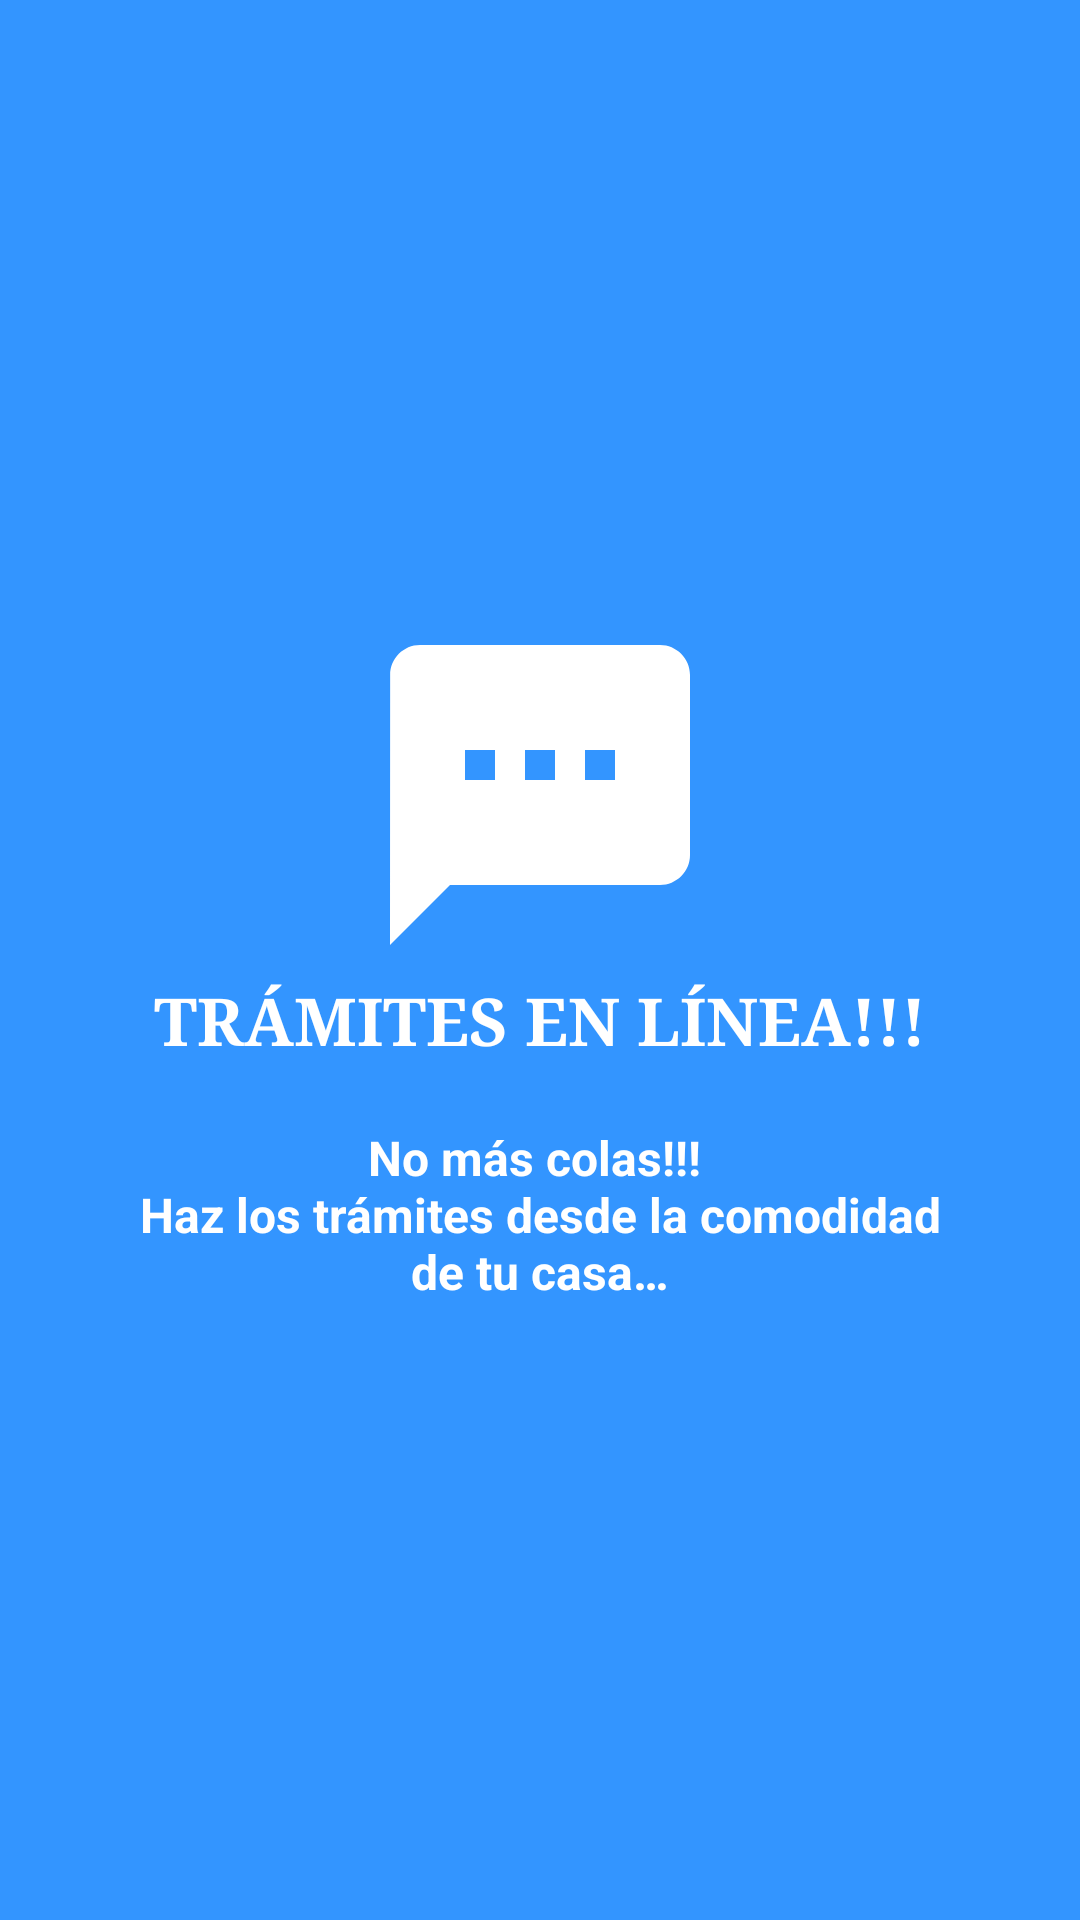

Where icons sit on this 1080px x 1920px app screen, as (x1, y1, x2, y2):
consulta general: (390, 645, 690, 945)
